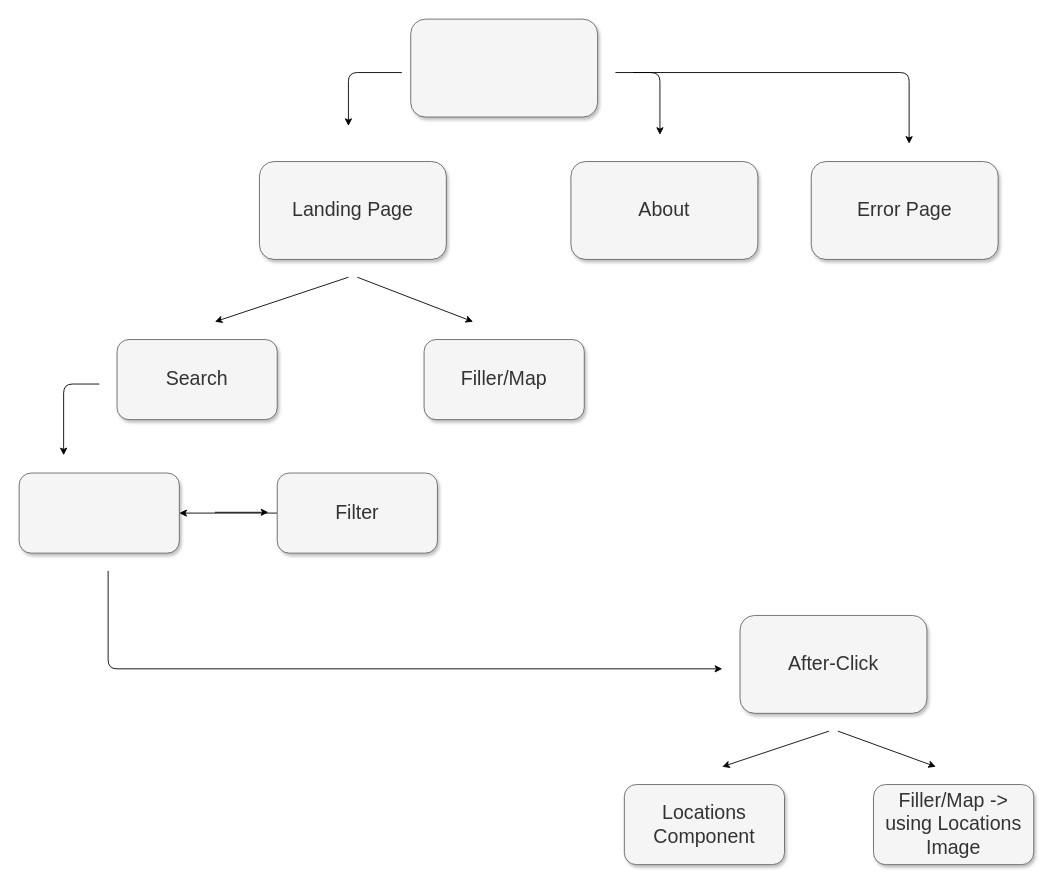
Image size: 1055x886. Some labels were removed from this diagram. The centre of each missing label's shape, as x and y in pixels:
"App" belongs at (504,69).
"Locations" belongs at (100,514).
